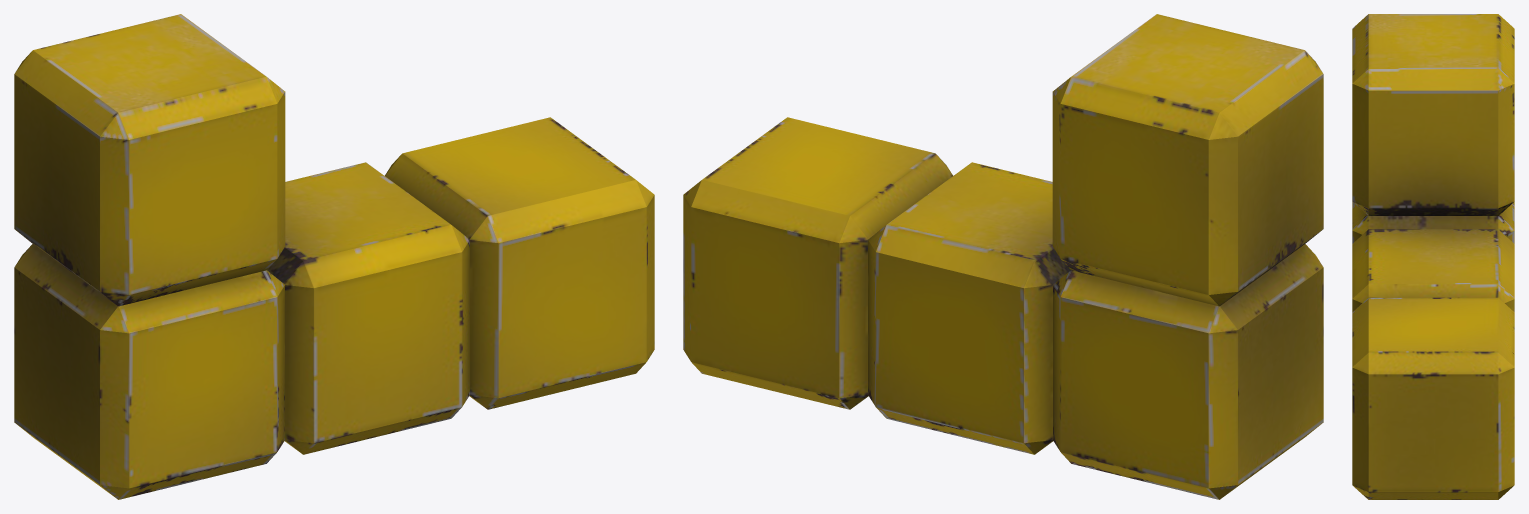
The model's file is blocks_5.fbx.
3 renders of one model, left to right at view 1: azimuth 30°, elevation 25°; view 2: azimuth 150°, elevation 25°; view 3: azimuth 270°, elevation 25°, orthographic. The views are drawn at different scales.
Visible parts, largest first — view 1: polySurface24; view 2: polySurface24; view 3: polySurface24.
Part boxes in pixels (left/top/right/bottom): polySurface24: left=14, top=14, right=654, bottom=499; polySurface24: left=683, top=14, right=1323, bottom=499; polySurface24: left=1352, top=14, right=1514, bottom=499.
Size of the model in its own units: 2.99 by 2 by 1.
